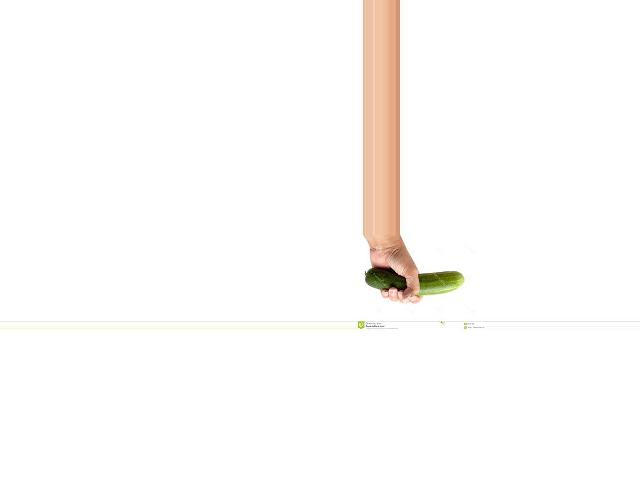cucumber: (366, 268, 464, 296)
